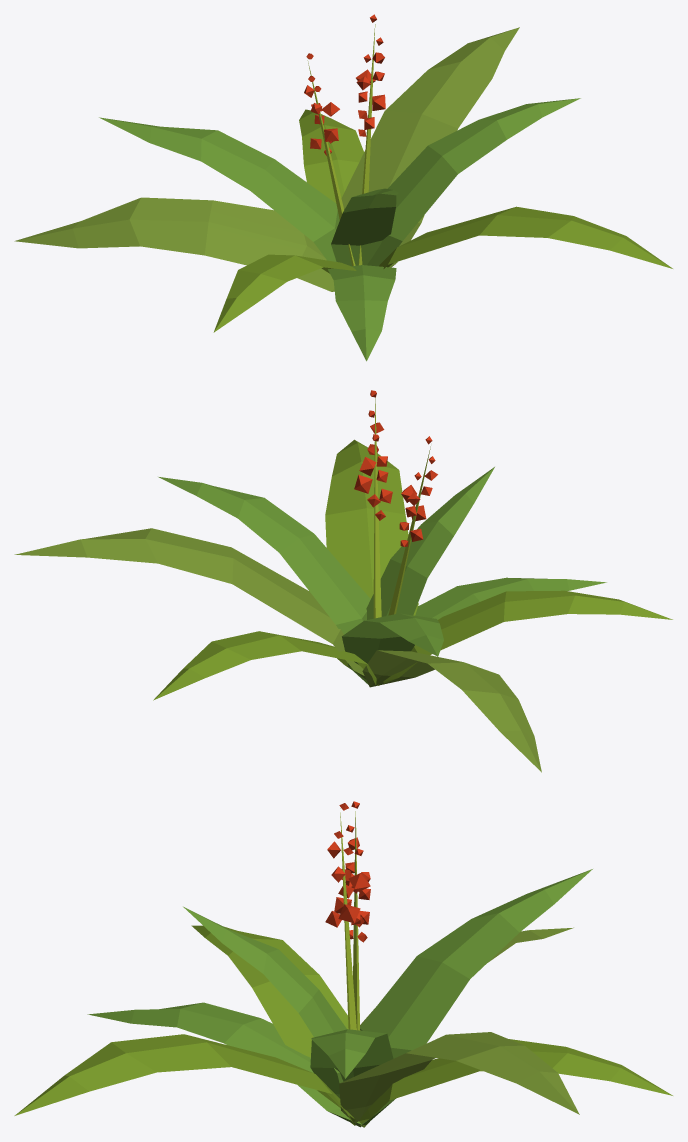
File: weed.FBX
3 views of the same model, one above another, from view 1: azimuth 30°, elevation 25°; view 2: azimuth 150°, elevation 25°; view 3: azimuth 270°, elevation 25° (orthographic). The views are drawn at different scales.
Parts seen in each view (by area): view 1: Object005; view 2: Object005; view 3: Object005.
Part boxes in pixels (x1,y1,x2,y2): Object005: (14,14,672,361); Object005: (14,390,672,772); Object005: (14,801,672,1127).
Size of the model in its own units: 7.77 by 4.09 by 7.46.
Materials: 1 (1 with a texture image).
